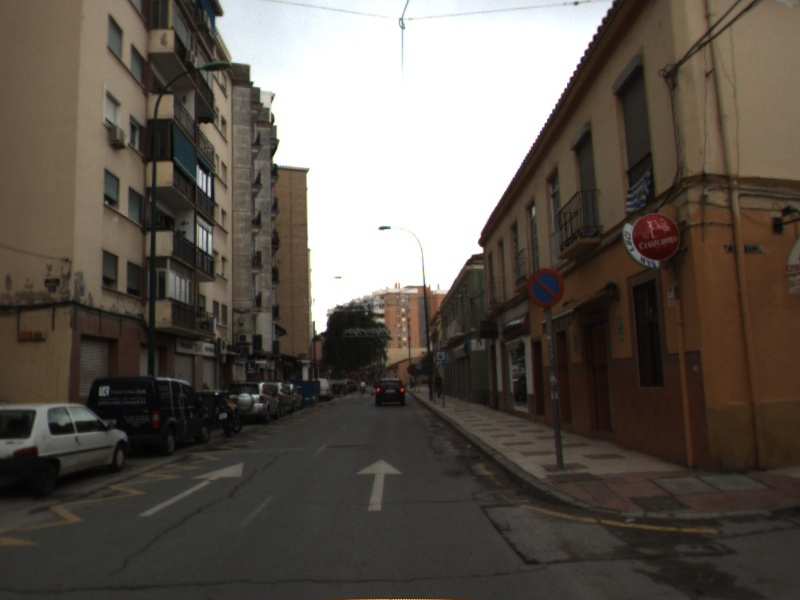STRAIGHT: (134, 460, 246, 520), (352, 457, 405, 513)
